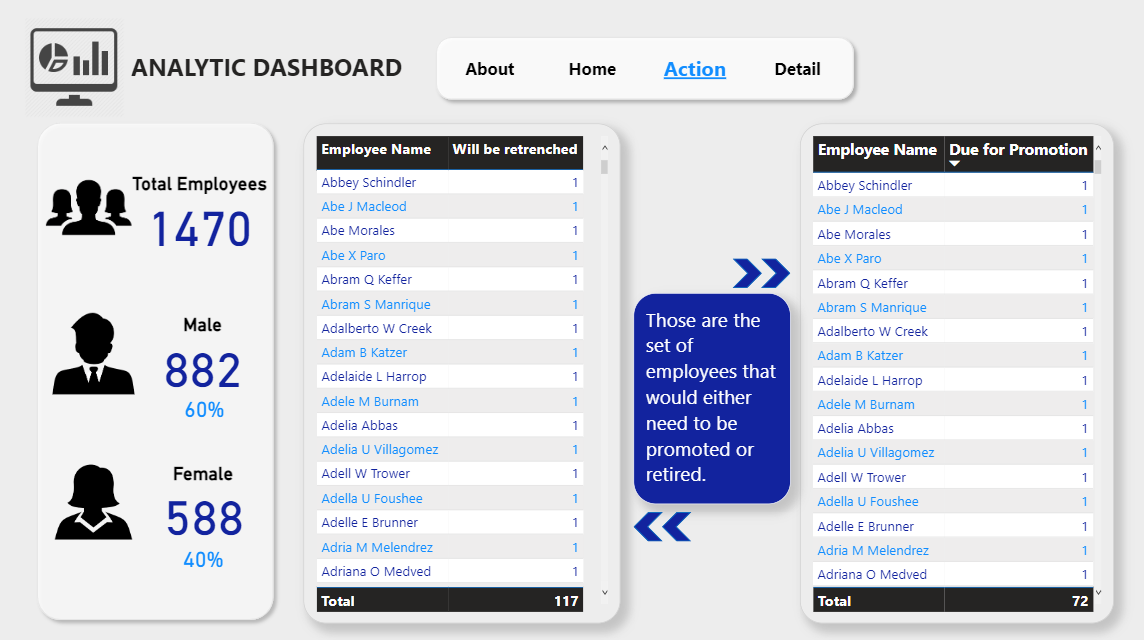

What the dashboard file says about the page in this screenshot:
{"tool":"powerbi","page":{"name":"Action","canvas":[1280,720],"ordinal":2},"visuals":[{"type":"image","box":[0,15,166.7,121.7],"z":0,"group":"g2"},{"type":"shape","box":[476.8,33.2,482.2,87.4],"z":0,"group":"g3"},{"type":"shape","box":[33,128.2,280.7,570.6],"z":0,"group":"g4"},{"type":"tableEx","fields":{"Values":["sheet 1.Employee Name","All measures.Will be retrenched"]},"box":[338.3,138.3,351.7,555],"z":0},{"type":"textbox","box":[141.7,51.7,340,60],"z":1000,"group":"g2"},{"type":"tableEx","fields":{"Values":["sheet 1.Employee Name","All measures.Promotion Due2"]},"box":[890,138.3,348.3,555],"z":1000},{"type":"card","title":"Total Employees","fields":{"Values":["Sheet 1.Total emp"]},"box":[110.4,192.9,225.9,86.3],"z":1000,"group":"g4"},{"type":"group","id":"g1","title":"Group 2","box":[705.6,288.3,174.7,314.4],"z":2000},{"type":"card","title":"Male","fields":{"Values":["Sheet 1.male_count"]},"box":[149.8,350.3,152.6,87.2],"z":2000,"group":"g4"},{"type":"group","id":"g2","title":"Group 3","box":[0,15,481.7,683.8],"z":3000},{"type":"card","title":"Female","fields":{"Values":["Sheet 1.Female_count"]},"box":[140.4,515,173.4,87.2],"z":3000,"group":"g4"},{"type":"group","id":"g3","title":"Group 2","box":[476.8,33.2,482.2,87.4],"z":4000},{"type":"textbox","box":[705.6,327.1,174.7,234.6],"z":4000,"group":"g1"},{"type":"group","id":"g4","title":"Group 1","box":[13.6,128.2,322.6,570.6],"z":5000,"group":"g2"},{"type":"image","box":[40.6,170.2,118.7,124],"z":6000,"group":"g4"},{"type":"shape","box":[848,288.3,32.4,32.4],"z":6000,"group":"g1"},{"type":"shape","box":[815.6,288.3,32.4,32.4],"z":7000,"group":"g1"},{"type":"image","box":[13.6,343.8,183.9,101.2],"z":7000,"group":"g4"},{"type":"image","box":[23.3,511.4,162.9,94.5],"z":8000,"group":"g4"},{"type":"shape","box":[705.6,570.3,32.4,32.4],"z":8000,"group":"g1"},{"type":"card","fields":{"Values":["Sheet 1.Male %"]},"box":[195.1,416.2,65.9,77.5],"z":9000,"group":"g4"},{"type":"shape","box":[738,570.3,32.4,32.4],"z":9000,"group":"g1"},{"type":"card","fields":{"Values":["Sheet 1.Female %"]},"box":[197,602.2,60.3,38.7],"z":10000,"group":"g4"},{"type":"pageNavigator","box":[494.3,52.3,448.2,50.9],"z":12000,"group":"g3"}]}

Visuals, with their boxes in screenshot pixels (x1, y1, x2, y2), scaled from the page's 1280x720 canvas onto the 1144x640 screenshot:
image: x1=0 y1=13 x2=149 y2=122
shape: x1=426 y1=30 x2=857 y2=107
shape: x1=29 y1=114 x2=280 y2=621
tableEx - sheet 1.Employee Name x All measures.Will be retrenched: x1=302 y1=123 x2=617 y2=616
textbox: x1=127 y1=46 x2=431 y2=99
tableEx - sheet 1.Employee Name x All measures.Promotion Due2: x1=795 y1=123 x2=1107 y2=616
"Total Employees" card: x1=99 y1=171 x2=301 y2=248
"Group 2" group: x1=631 y1=256 x2=787 y2=536
"Male" card: x1=134 y1=311 x2=270 y2=389
"Group 3" group: x1=0 y1=13 x2=431 y2=621
"Female" card: x1=125 y1=458 x2=280 y2=535
"Group 2" group: x1=426 y1=30 x2=857 y2=107
textbox: x1=631 y1=291 x2=787 y2=499
"Group 1" group: x1=12 y1=114 x2=300 y2=621
image: x1=36 y1=151 x2=142 y2=262
shape: x1=758 y1=256 x2=787 y2=285
shape: x1=729 y1=256 x2=758 y2=285
image: x1=12 y1=306 x2=177 y2=396
image: x1=21 y1=455 x2=166 y2=539
shape: x1=631 y1=507 x2=660 y2=536
card - Sheet 1.Male %: x1=174 y1=370 x2=233 y2=439
shape: x1=660 y1=507 x2=689 y2=536
card - Sheet 1.Female %: x1=176 y1=535 x2=230 y2=570
pageNavigator: x1=442 y1=46 x2=842 y2=92
